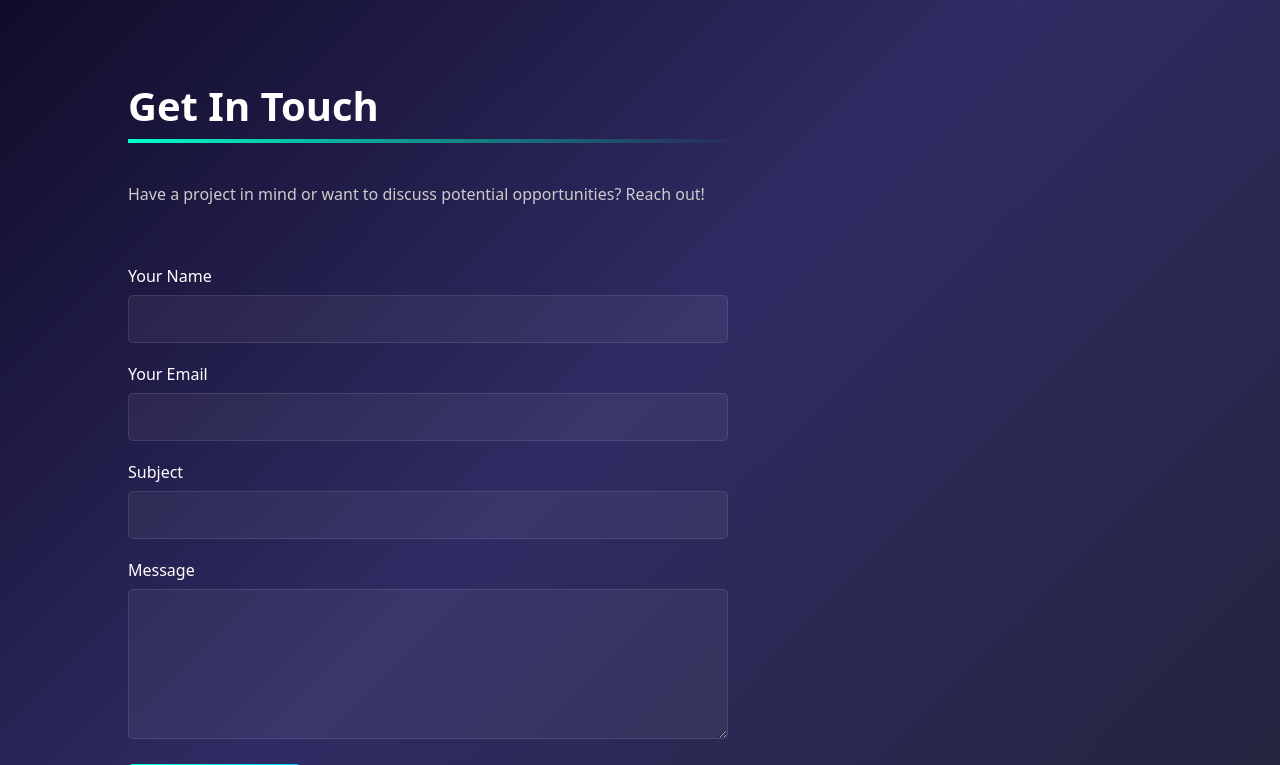
Test: ContactForm › submits form data successfully
Type "John Doe" into the field labelled "Your Name". click: (428, 319)
box: [128,295,728,343]
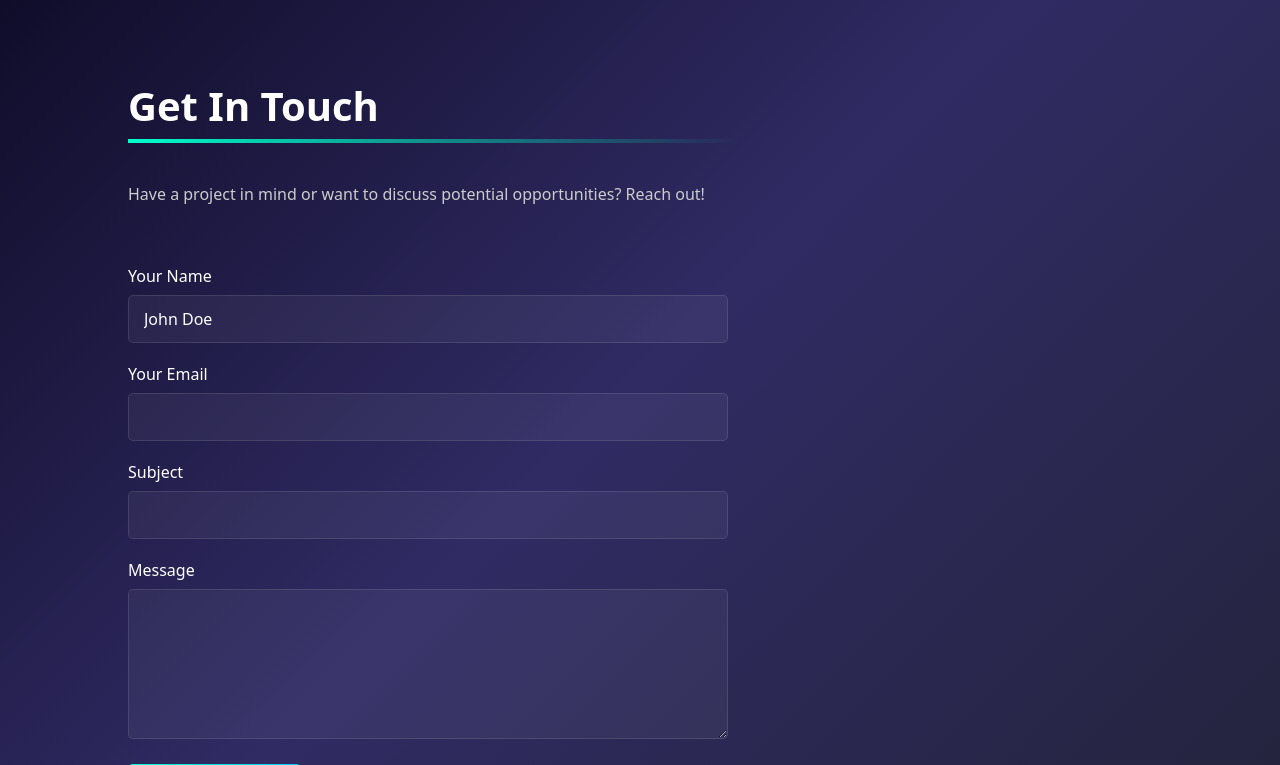
Type "john@example.com" into the field labelled "Your Email". click: (428, 417)
box: [128,393,728,441]
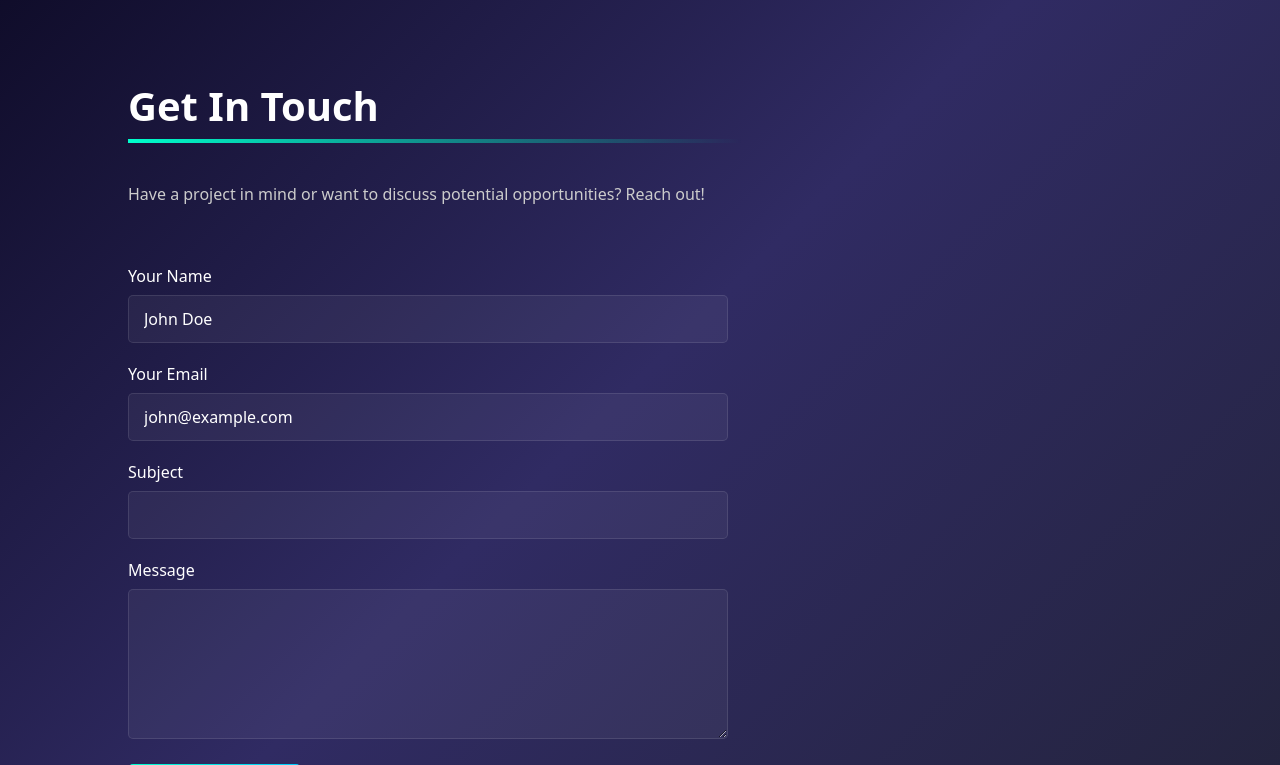
Type "Test Subject" into the field labelled "Subject". click: (428, 515)
box: [128,491,728,539]
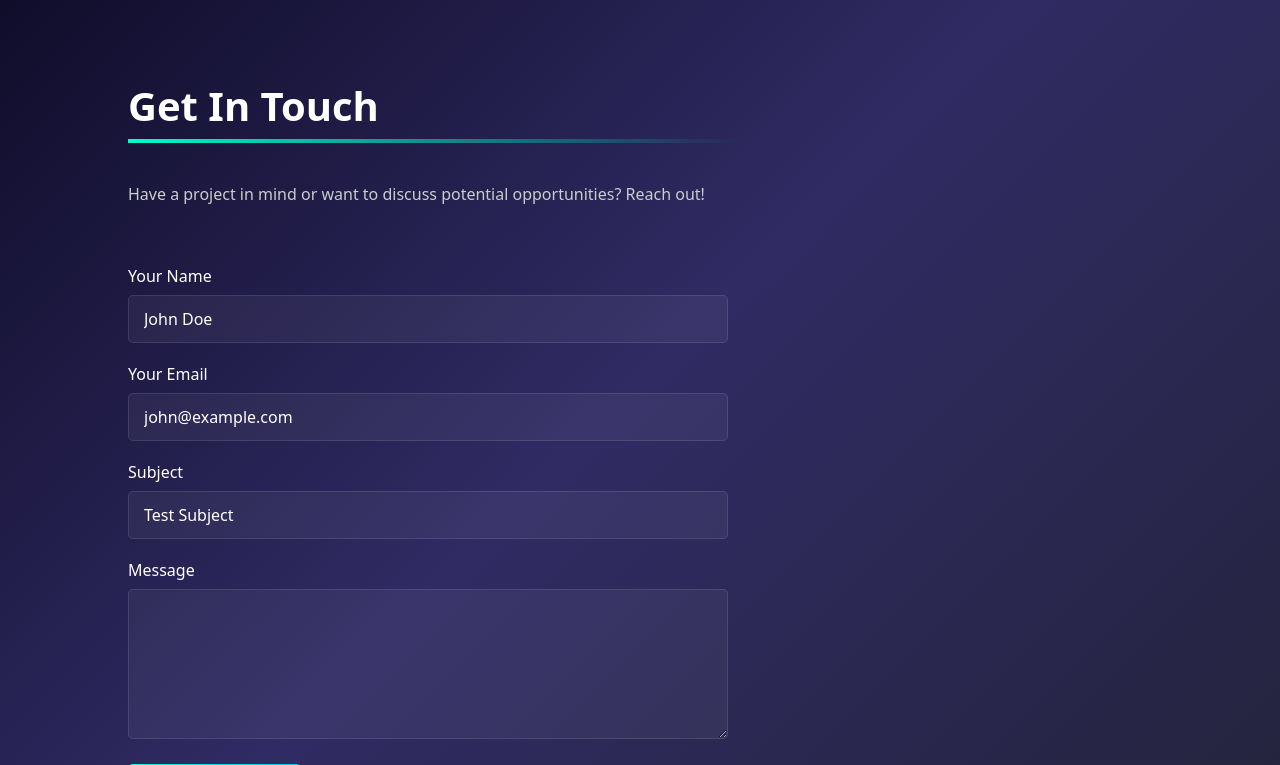
Type "Test message" into the text box labelled "Message". click: (428, 664)
box: [128,589,728,739]
(page scrolled)
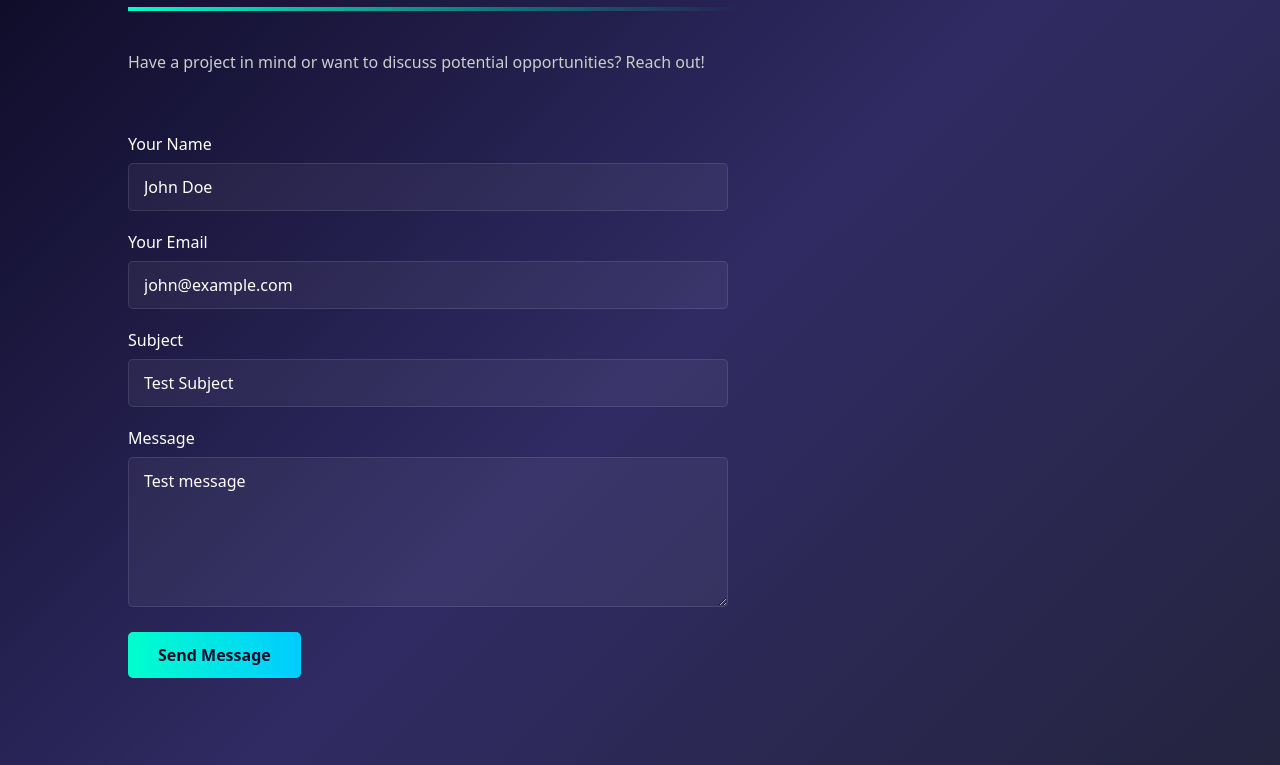
Click the button "Send Message". click: (214, 655)
box: [128,632,301,678]
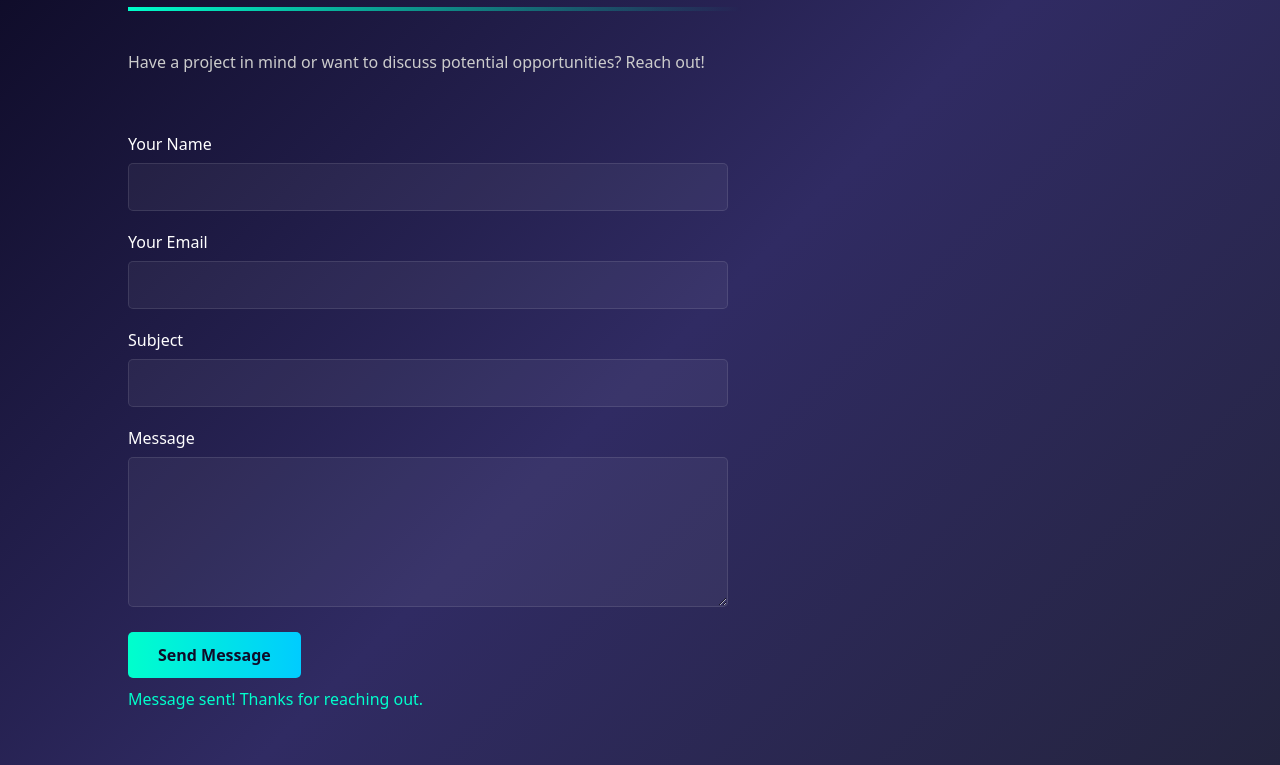
Now the text "Message sent! Thanks for reaching out." is shown, box [128,688,423,710]
